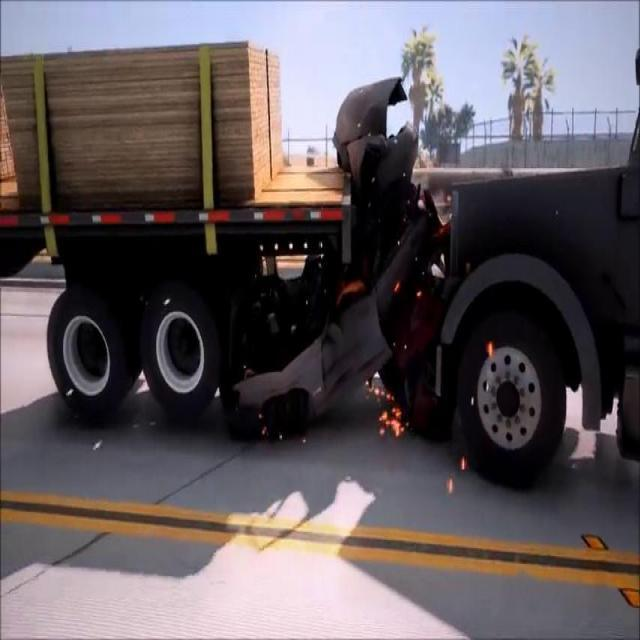person: (296, 66, 472, 522)
vehicle: (2, 48, 364, 488), (388, 92, 628, 526)
